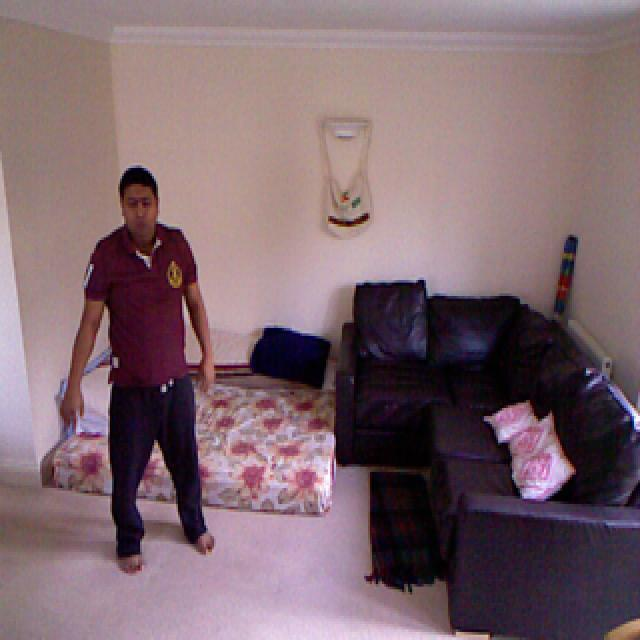NotFall: (43, 133, 245, 581)
